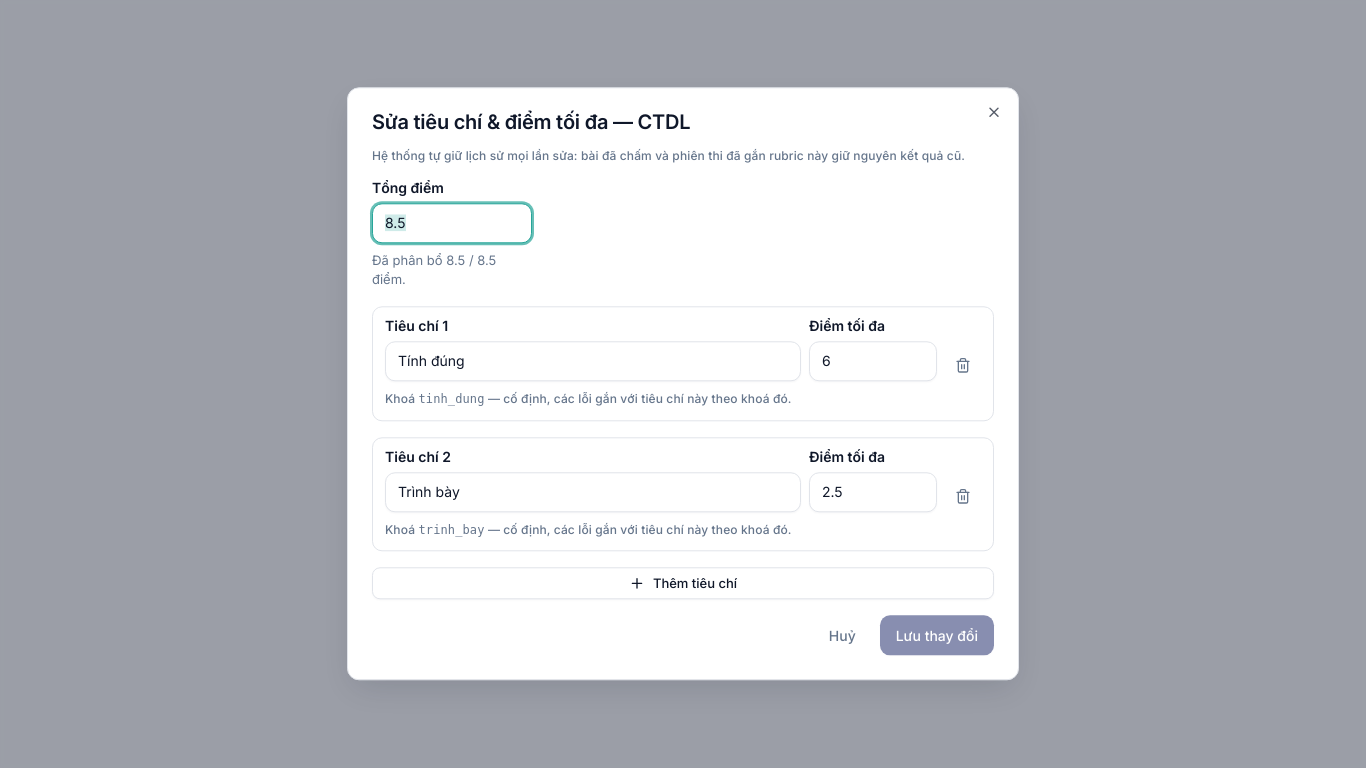
RubricDialog — sửa tiêu chí & điểm tối đa của một rubric › cảnh báo — không chặn — rằng các lỗi nằm trong tiêu chí bị xoá sẽ cần chuyển sang tiêu chí khác
Click the button named "Xoá tiêu chí 2" at (963, 496), box [945,478,981,514]
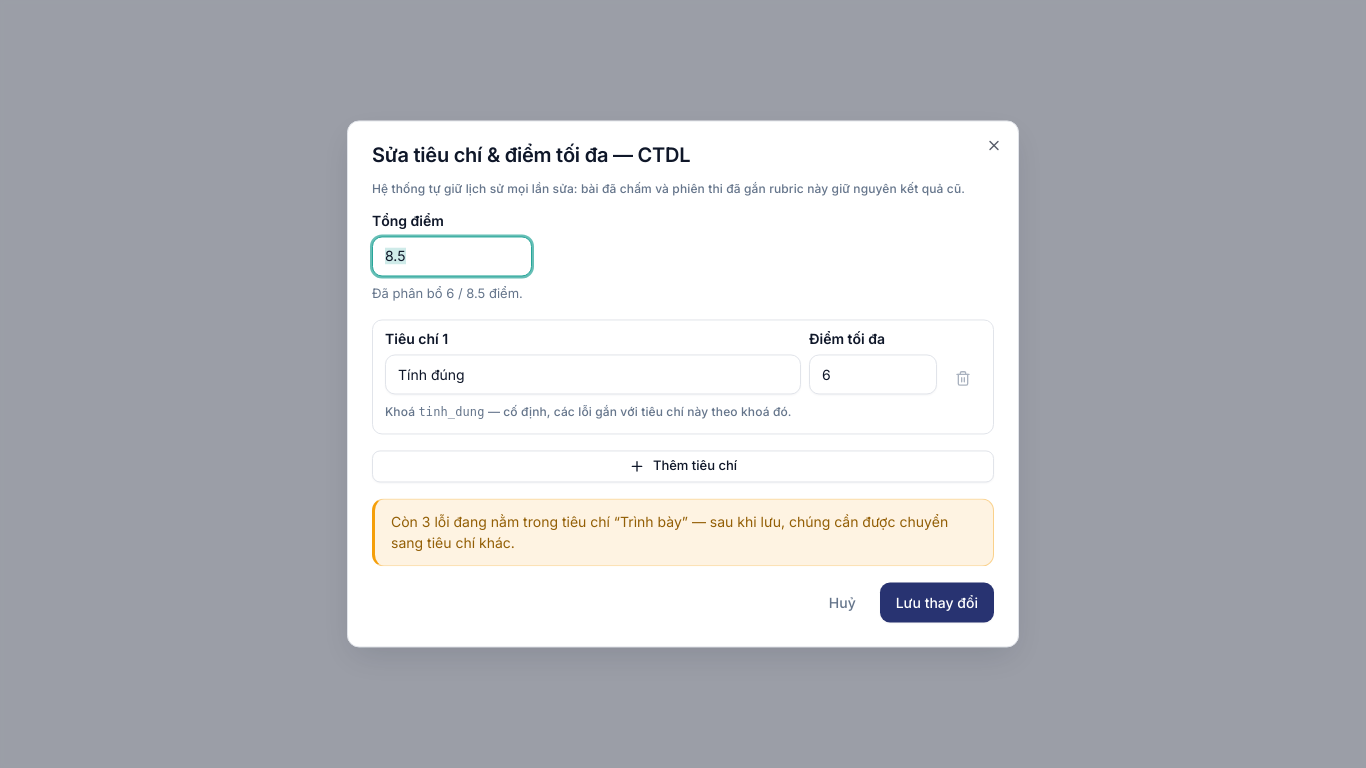
expect the message shows "Còn 3 lỗi đang nằm trong tiêu chí “Trình bày” — sau khi lưu, chúng cần được chuyển sang tiêu chí khác.": met, box [372,498,994,566]
expect the button "Lưu thay đổi" is enabled: met, box [880,582,994,622]
